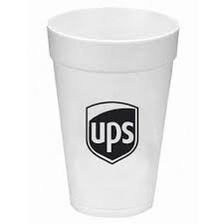paper_cup: (40, 0, 184, 221)
